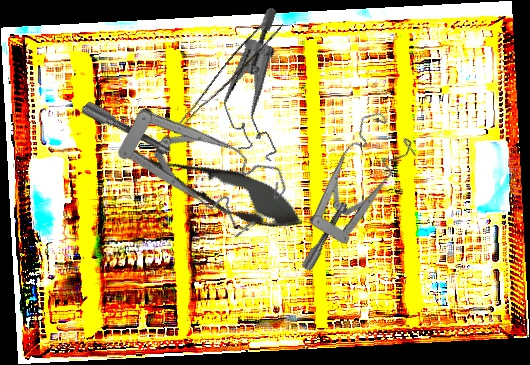Micro Scissor: (118, 130, 312, 244)
Speculum: (78, 34, 298, 267), (252, 102, 439, 275), (195, 6, 325, 171)
Tissue Forceps: (172, 11, 284, 145)
